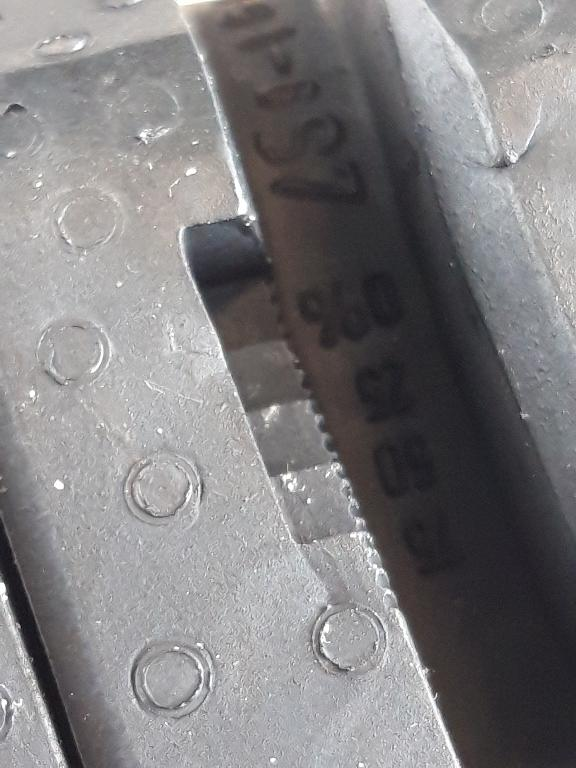temoin:100: (175, 210, 414, 621)
